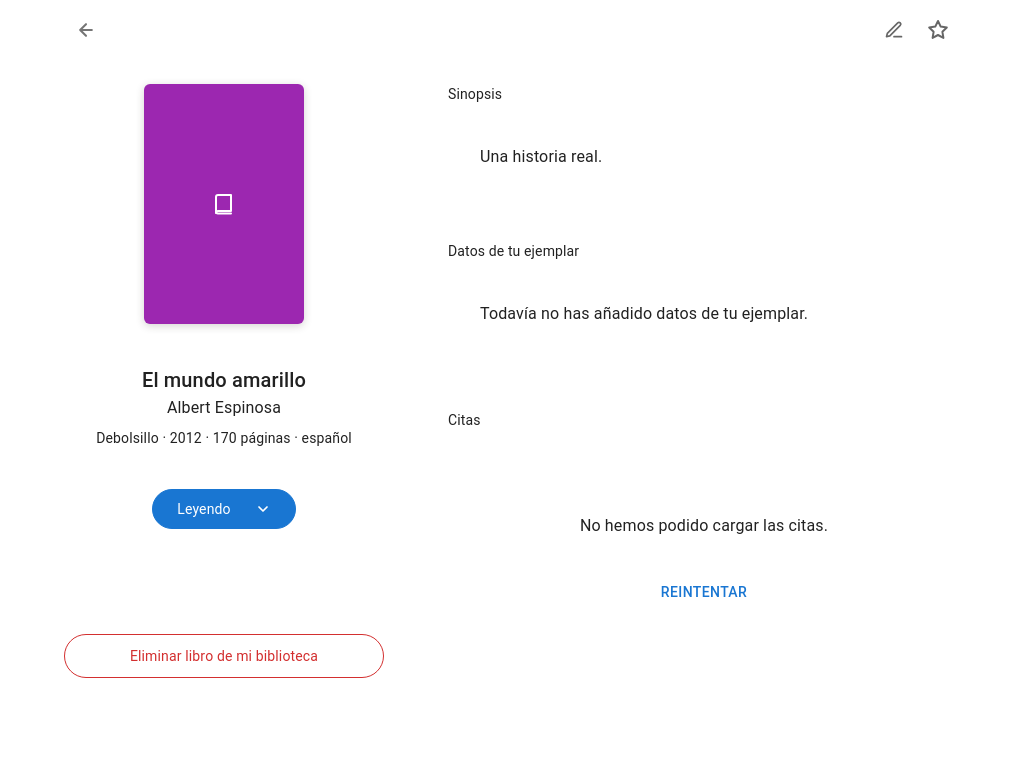
Given the book detail page › When the user changes the reading status › Then only the current status shows until it is opened, and the new one is sent
Click the button "Leyendo" at (224, 509), box 152,489 -> 296,529
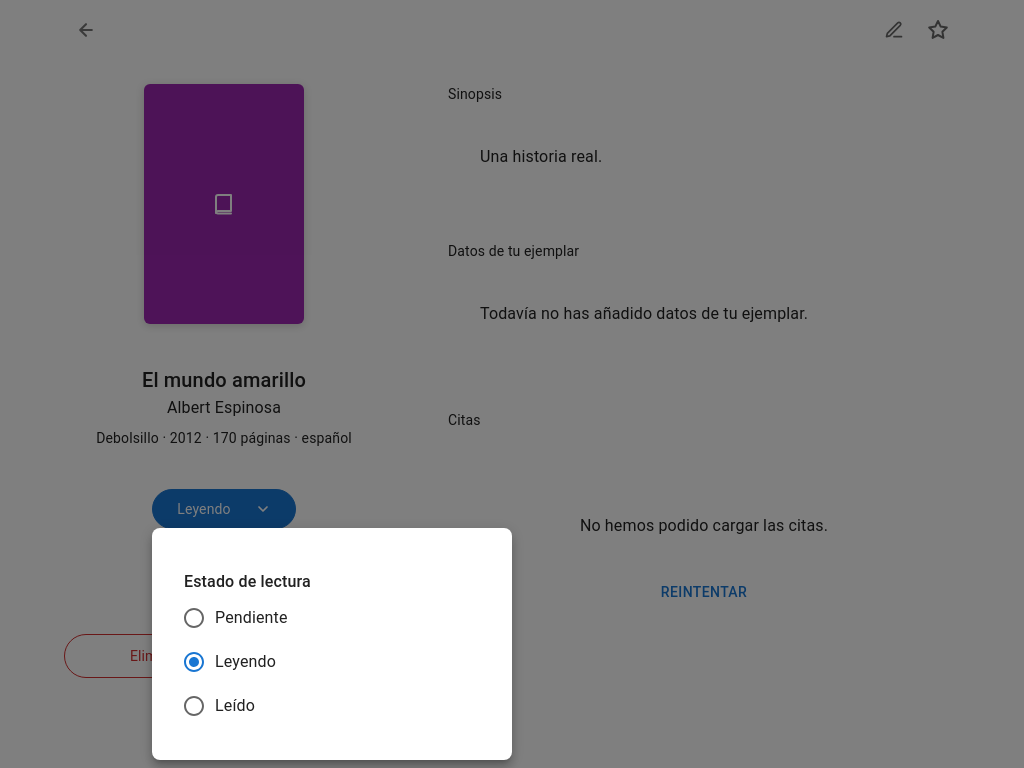
Click the radio button labelled "Leído" at (218, 706), box 182,694 -> 255,718
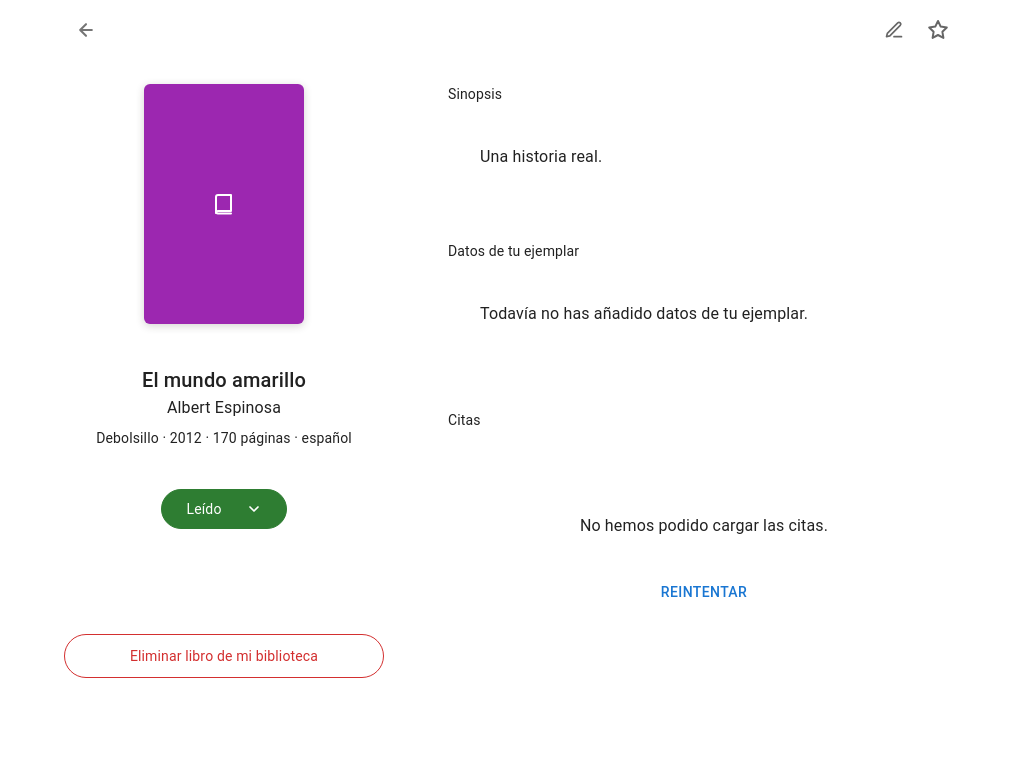
expect the button "Leído" is shown: met, box 162,489 -> 287,529
